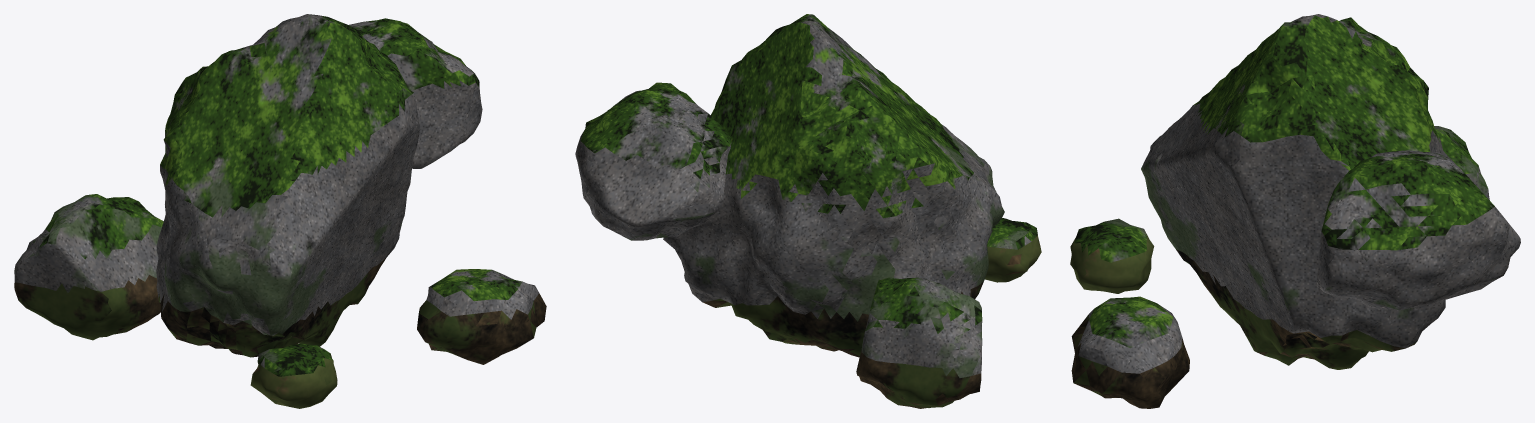
The model's file is Boulder_Granite_D.glb.
The picture shows the model from 3 angles, left to right: view 1: azimuth 30°, elevation 25°; view 2: azimuth 150°, elevation 25°; view 3: azimuth 270°, elevation 25°; orthographic projection. The views are drawn at different scales.
Visible parts, largest first — view 1: Boulder_Granite_D__Stone; view 2: Boulder_Granite_D__Stone; view 3: Boulder_Granite_D__Stone.
Boxes of the visible parts, x1=… form: Boulder_Granite_D__Stone: x1=14, y1=14, x2=546, y2=408; Boulder_Granite_D__Stone: x1=575, y1=14, x2=1041, y2=408; Boulder_Granite_D__Stone: x1=1070, y1=14, x2=1520, y2=408.
Bounding box in the file's own units: 11.55 × 8.25 × 9.52.
Materials: 1 (1 with a texture image).
